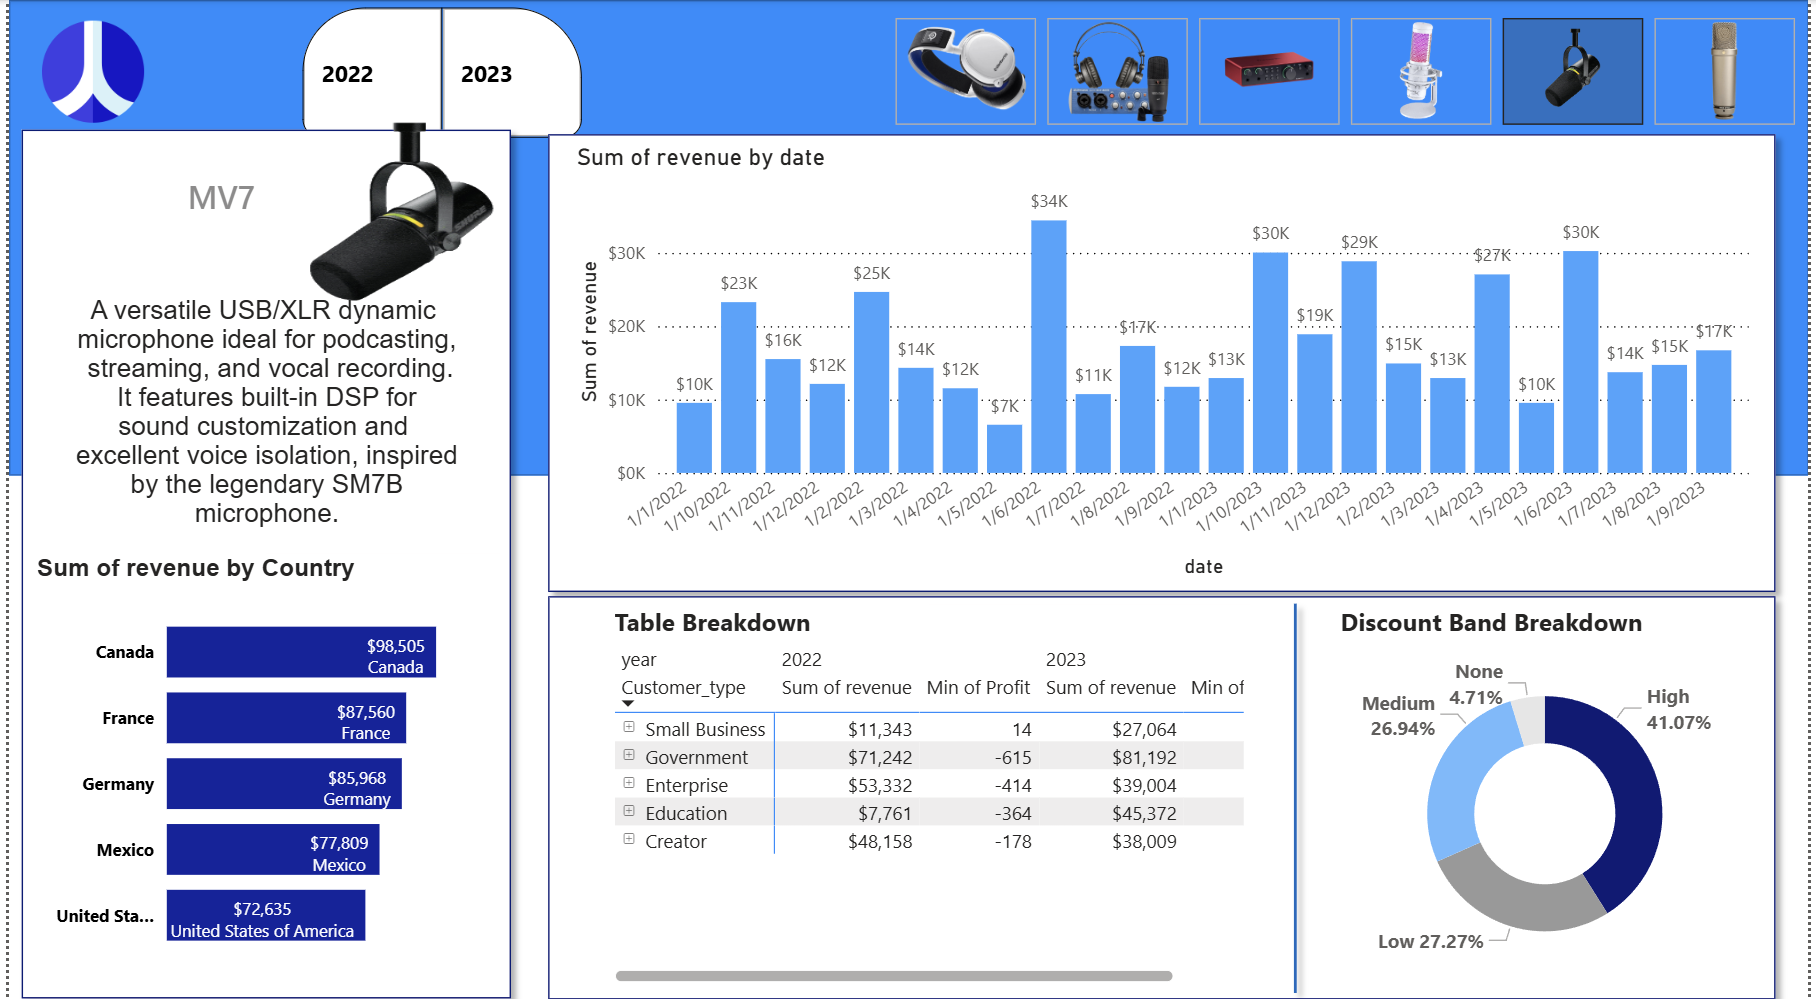

What the dashboard file says about the page in this screenshot:
{"tool":"powerbi","page":{"name":"Page 1","canvas":[1280,720],"ordinal":0},"visuals":[{"type":"shape","box":[0,0,1280.4,338.3],"z":1000},{"type":"advancedSlicerVisual","fields":{"Values":["Query1.year"]},"box":[183.8,0,250,103.8],"z":1500},{"type":"shape","box":[375,86.2,891.2,343.8],"z":2000},{"type":"shape","box":[0,83.4,366.2,636.1],"z":3000},{"type":"shape","box":[375,415,891.2,305],"z":4000},{"type":"image","box":[18,0,83.1,102.5],"z":5000},{"type":"advancedSlicerVisual","fields":{"Values":["Query1.Image_url"]},"box":[625,7.5,655,86.2],"z":6000},{"type":"cardVisual","fields":{"Rows":["Query1.product","Query1.product","Query1.product","Query1.product"],"Data":["Min(Query1.product)"]},"box":[113.8,33.8,485,210],"z":7000},{"type":"card","fields":{"Values":["Min(Query1.Description)"]},"box":[33.6,191.2,300.1,191.2],"z":8000},{"type":"clusteredBarChart","fields":{"Category":["Query1.Country"],"Y":["Sum(Query1.revenue)"]},"box":[15.1,394,334.9,300.1],"z":9000},{"type":"clusteredColumnChart","fields":{"Y":["Sum(Query1.revenue)"],"Category":["Query1.date"]},"box":[398.8,101.2,843.8,313.8],"z":10000},{"type":"donutChart","title":" Discount Band Breakdown","fields":{"Y":["Sum(Query1.revenue)"],"Category":["Query1.Discount_Band"]},"box":[942.5,430,300,273.8],"z":11000},{"type":"pivotTable","title":"Table Breakdown","fields":{"Rows":["Query1.Customer_type","Query1.product"],"Values":["Sum(Query1.revenue)","Min(Query1.Profit)"],"Columns":["Query1.year"]},"box":[426.2,430,457.5,273.8],"z":12000},{"type":"shape","box":[765,420,300,295],"z":13000}]}

Visuals, with their boxes in screenshot pixels (x1, y1, x2, y2), scaled from the page's 1280x720 canvas onto the 1816x999 screenshot:
shape: left=0, top=0, right=1815, bottom=469
advancedSlicerVisual - Query1.year: left=261, top=0, right=615, bottom=144
shape: left=532, top=120, right=1796, bottom=597
shape: left=0, top=116, right=520, bottom=998
shape: left=532, top=576, right=1796, bottom=998
image: left=26, top=0, right=143, bottom=142
advancedSlicerVisual - Query1.Image_url: left=887, top=10, right=1815, bottom=130
cardVisual - Query1.product x Query1.product: left=161, top=47, right=850, bottom=338
card - Min(Query1.Description): left=48, top=265, right=473, bottom=531
clusteredBarChart - Query1.Country x Sum(Query1.revenue): left=21, top=547, right=497, bottom=963
clusteredColumnChart - Sum(Query1.revenue) x Query1.date: left=566, top=140, right=1763, bottom=576
" Discount Band Breakdown" donutChart: left=1337, top=597, right=1763, bottom=977
"Table Breakdown" pivotTable: left=605, top=597, right=1254, bottom=977
shape: left=1085, top=583, right=1511, bottom=992
